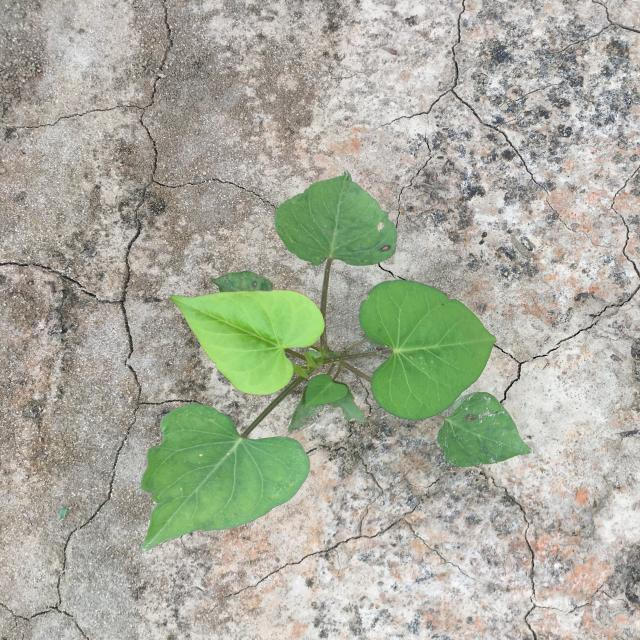MorningGlory: (140, 170, 532, 550)
